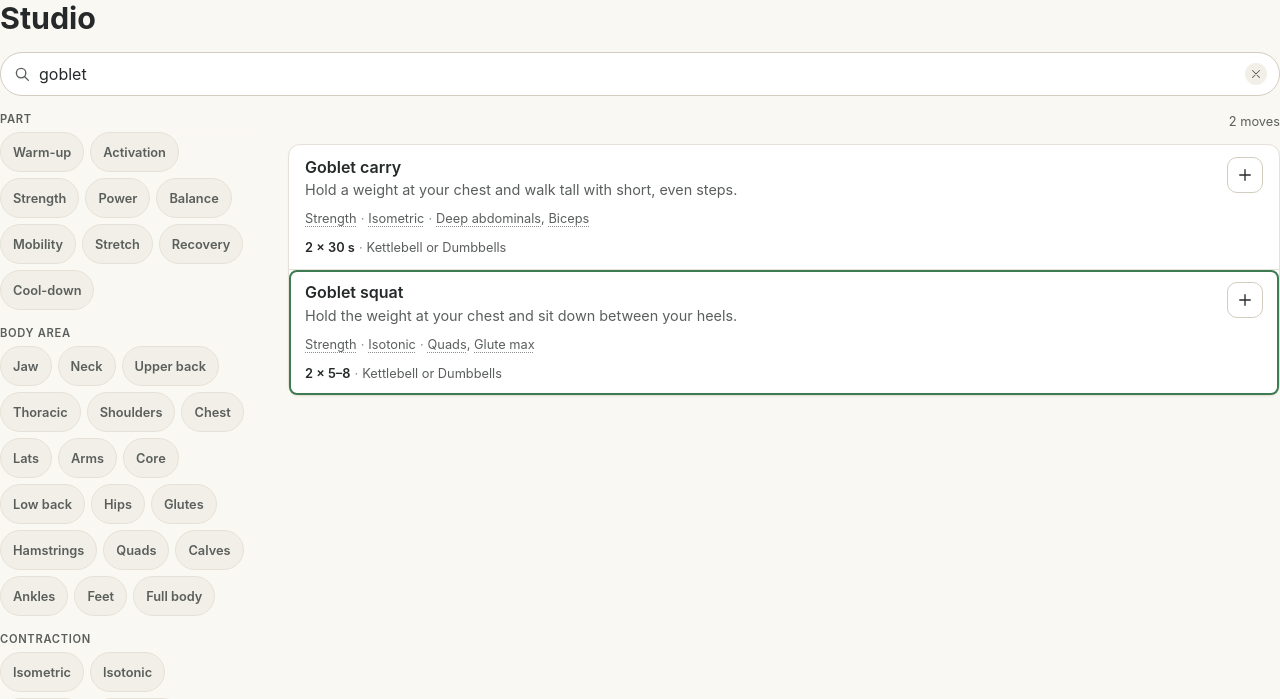
Test: on a phone: a sheet over the list › ✕ closes it back to the list — Back, not a new entry — and focus returns to the row
Click the link with class "stu-move-open" showing "Goblet squat" at (354, 292), box [305, 282, 404, 302]
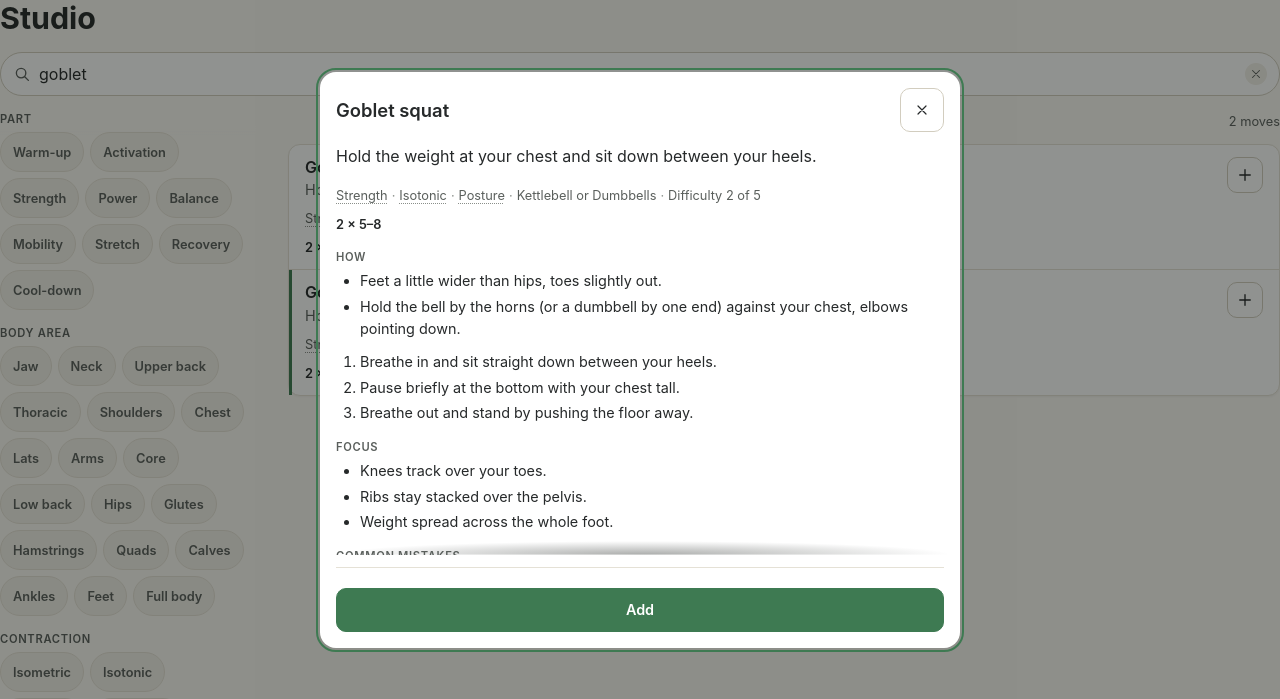
Click the button named "Close" at (922, 110), box [900, 88, 944, 132]
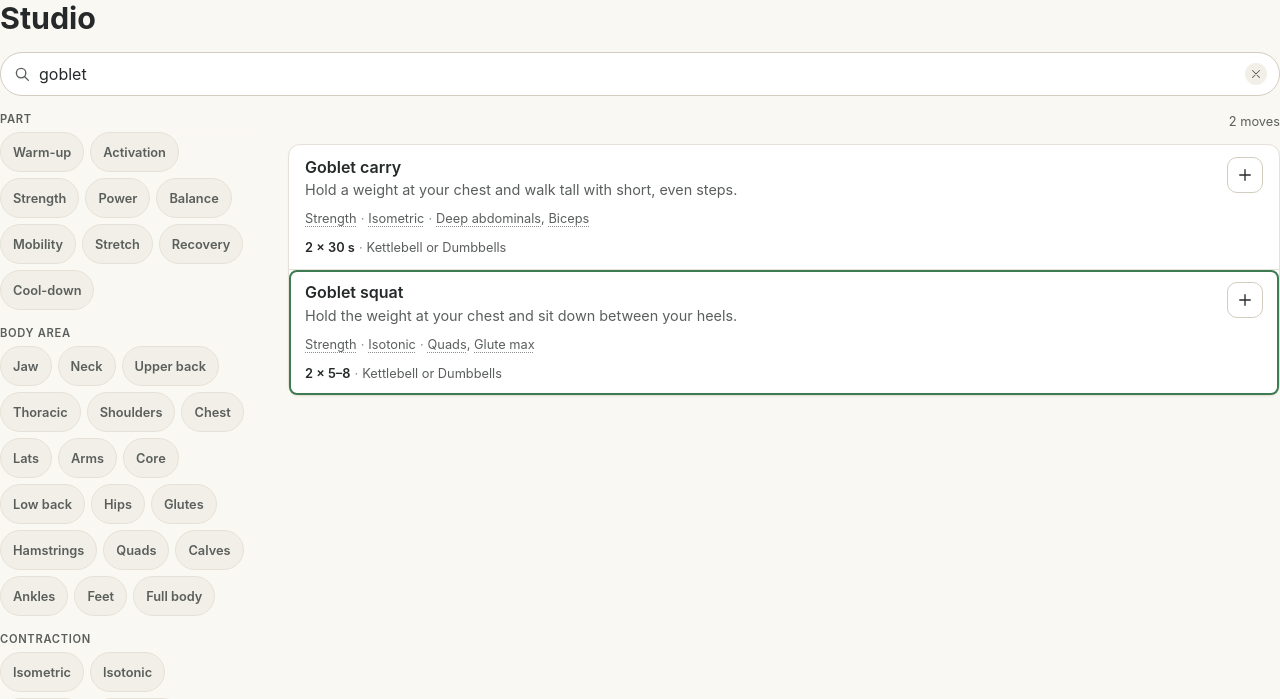
Expected: the dialog is gone
